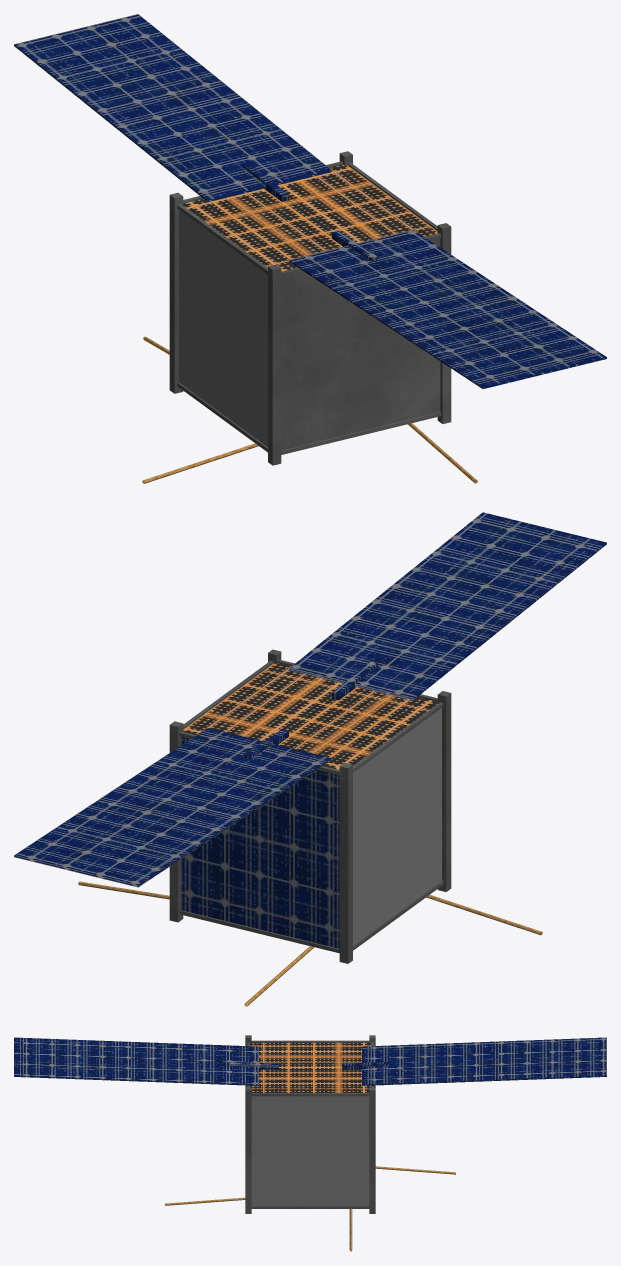
The model's file is cubesat-1.glb.
The picture shows the model from 3 angles, top to bottom: view 1: azimuth 30°, elevation 25°; view 2: azimuth 150°, elevation 25°; view 3: azimuth 270°, elevation 25°; orthographic projection. The views are drawn at different scales.
Visible parts, largest first — view 1: cubesat; view 2: cubesat; view 3: cubesat.
Part boxes in pixels (box(x1,y1,x2,y2)): cubesat: box(14, 14, 606, 483); cubesat: box(14, 512, 606, 1006); cubesat: box(14, 1035, 606, 1251).
Size of the model in its own units: 0.2346 by 0.1188 by 0.4779.
1 material, 1 textured.
